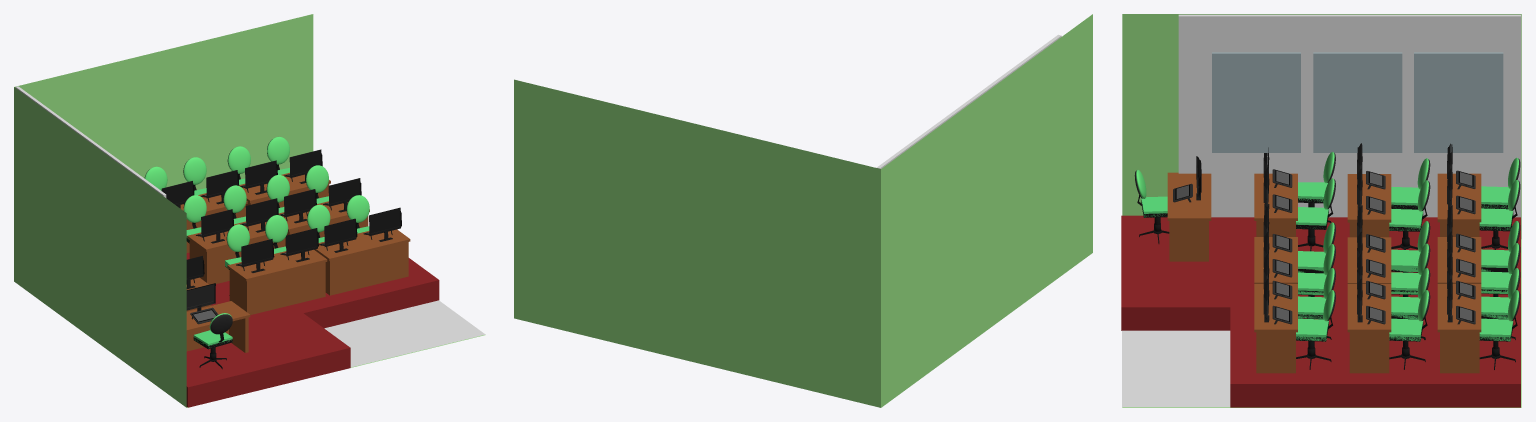
The model's file is lab tab cintiq (1).glb.
3 renders of one model, left to right at view 1: azimuth 30°, elevation 25°; view 2: azimuth 150°, elevation 25°; view 3: azimuth 270°, elevation 25°, orthographic. The views are drawn at different scales.
Parts seen in each view (by area): view 1: Plane, Cube, Plane.001, Cube.035, Cube.038, Cube.010, Cube.029, Cube.004, Cube.016, Kubus.020, Kubus.018, Kubus.021 (+24 smaller); view 2: Plane, Cube.017; view 3: Cube, Cube.017, Plane, Cube.020, Cube.019, Cube.018, Plane.001, Cube.029, Cube.004, Cube.016, Cube.038, Cube.013 (+24 smaller).
Part boxes in pixels (left/top/right/bottom): Plane: left=14, top=14, right=485, bottom=407; Cube: left=186, top=252, right=439, bottom=407; Plane.001: left=324, top=300, right=485, bottom=367; Cube.035: left=227, top=249, right=327, bottom=314; Cube.038: left=314, top=229, right=410, bottom=295; Cube.010: left=187, top=221, right=285, bottom=284; Cube.029: left=186, top=301, right=250, bottom=352; Cube.004: left=278, top=201, right=369, bottom=246; Cube.016: left=239, top=172, right=330, bottom=207; Kubus.020: left=324, top=218, right=357, bottom=252; Kubus.018: left=241, top=239, right=274, bottom=272; Kubus.021: left=369, top=207, right=401, bottom=241; Plane: left=514, top=14, right=1092, bottom=407; Cube.017: left=876, top=34, right=1061, bottom=168; Cube: left=1121, top=215, right=1520, bottom=407; Cube.017: left=1178, top=14, right=1520, bottom=217; Plane: left=1122, top=14, right=1521, bottom=407; Cube.020: left=1414, top=52, right=1503, bottom=152; Cube.019: left=1313, top=52, right=1402, bottom=152; Cube.018: left=1212, top=52, right=1300, bottom=152; Plane.001: left=1122, top=330, right=1230, bottom=407; Cube.029: left=1167, top=172, right=1211, bottom=261; Cube.004: left=1347, top=284, right=1391, bottom=373; Cube.016: left=1437, top=284, right=1481, bottom=373; Cube.038: left=1254, top=284, right=1297, bottom=373; Cube.013: left=1347, top=174, right=1391, bottom=237.
Bounding box in the file's own units: 3.96 × 2.46 × 3.97.
